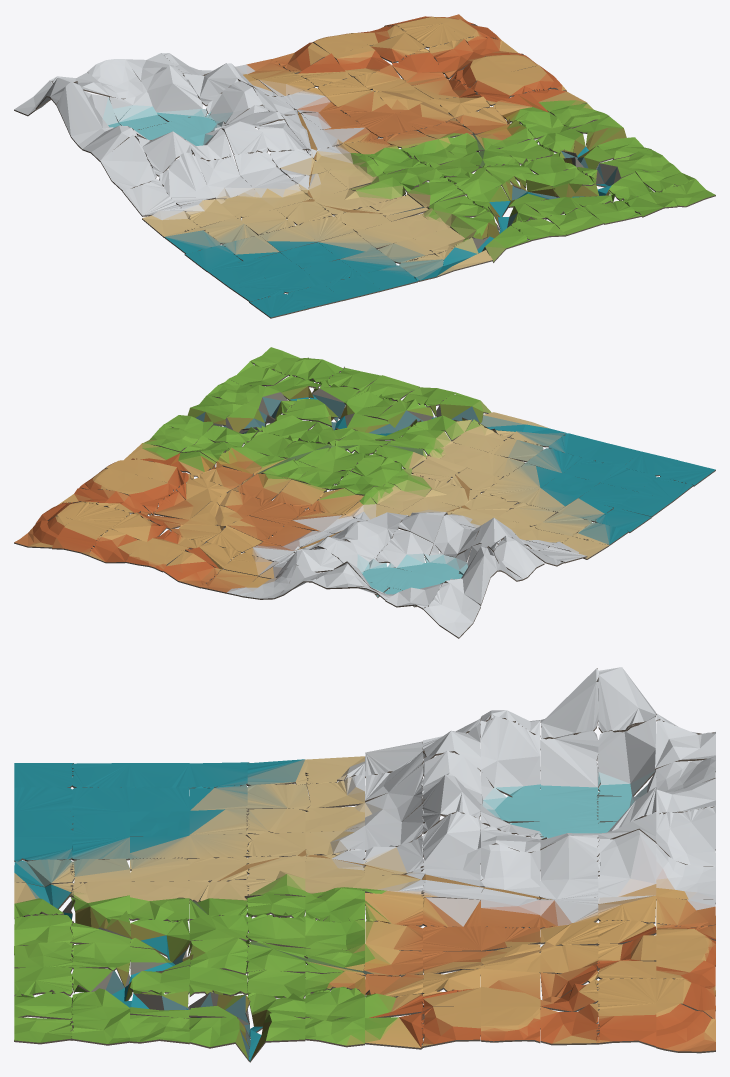
The model's file is terrain_lod2.glb.
3 renders of one model, top to bottom at view 1: azimuth 30°, elevation 25°; view 2: azimuth 150°, elevation 25°; view 3: azimuth 270°, elevation 25°, orthographic. The views are drawn at different scales.
Visible parts, largest first — view 1: chunk_3_10, chunk_0_7, chunk_1_6, chunk_0_9, chunk_2_11, chunk_2_6, chunk_4_9, chunk_2_10, chunk_1_7, chunk_3_6, chunk_9_9, chunk_0_6 (+119 smaller); view 2: chunk_0_11, chunk_3_8, chunk_0_10, chunk_10_11, chunk_7_11, chunk_9_11, chunk_0_8, chunk_2_7, chunk_10_8, chunk_4_8, chunk_6_0, chunk_2_8 (+112 smaller); view 3: chunk_1_8, chunk_1_10, chunk_1_9, chunk_5_10, chunk_5_9, chunk_4_11, chunk_5_8, chunk_0_10, chunk_11_11, chunk_5_7, chunk_11_10, chunk_0_9 (+128 smaller).
Boxes of the visible parts, bbox=[...] form: chunk_3_10: bbox=[147, 65, 202, 121]; chunk_0_7: bbox=[100, 135, 156, 191]; chunk_1_6: bbox=[159, 152, 215, 205]; chunk_0_9: bbox=[56, 82, 113, 145]; chunk_2_11: bbox=[87, 59, 146, 99]; chunk_2_6: bbox=[194, 154, 253, 199]; chunk_4_9: bbox=[206, 81, 262, 124]; chunk_2_10: bbox=[109, 91, 167, 129]; chunk_1_7: bbox=[135, 131, 191, 176]; chunk_3_6: bbox=[233, 152, 290, 187]; chunk_9_9: bbox=[392, 48, 447, 85]; chunk_0_6: bbox=[122, 179, 179, 216]; chunk_0_11: bbox=[422, 582, 480, 638]; chunk_3_8: bbox=[376, 529, 433, 571]; chunk_0_10: bbox=[445, 546, 501, 605]; chunk_10_11: bbox=[52, 519, 109, 556]; chunk_7_11: bbox=[163, 551, 220, 588]; chunk_9_11: bbox=[89, 528, 146, 563]; chunk_0_8: bbox=[494, 535, 544, 579]; chunk_2_7: bbox=[434, 514, 484, 557]; chunk_10_8: bbox=[116, 475, 173, 515]; chunk_4_8: bbox=[340, 521, 395, 559]; chunk_6_0: bbox=[436, 392, 491, 422]; chunk_2_8: bbox=[412, 544, 471, 580]; chunk_1_8: bbox=[480, 716, 540, 797]; chunk_1_10: bbox=[597, 717, 655, 796]; chunk_1_9: bbox=[540, 730, 600, 796]; chunk_5_10: bbox=[597, 829, 656, 897]; chunk_5_9: bbox=[539, 835, 599, 899]; chunk_4_11: bbox=[656, 805, 715, 866]; chunk_5_8: bbox=[481, 844, 540, 899]; chunk_0_10: bbox=[598, 667, 655, 732]; chunk_11_11: bbox=[656, 1003, 715, 1053]; chunk_5_7: bbox=[421, 848, 484, 900]; chunk_11_10: bbox=[596, 1003, 656, 1047]; chunk_0_9: bbox=[540, 668, 598, 739].
Bounding box in the file's own units: 2408 × 429 × 2402.
